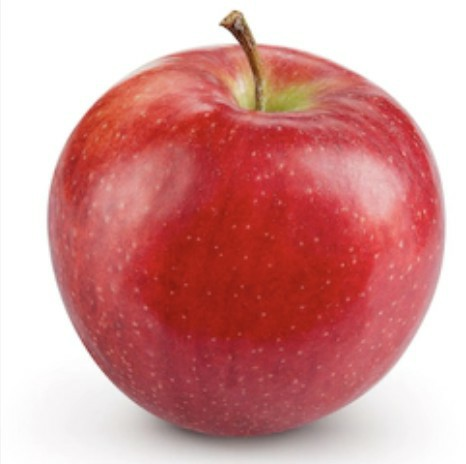fresh_apple: (52, 42, 446, 434)
